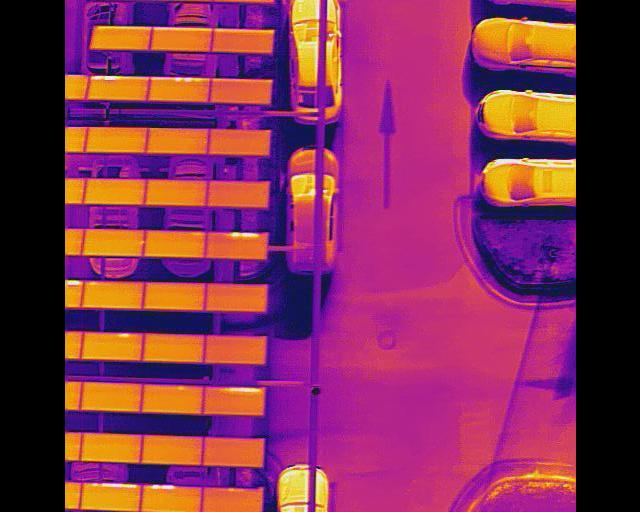Cell: (81, 334, 144, 362)
No-Anomaly: (204, 336, 266, 366), (142, 282, 205, 311), (203, 438, 263, 468), (140, 436, 202, 465), (79, 434, 141, 463), (204, 284, 266, 312), (142, 334, 204, 362), (141, 385, 203, 413), (80, 385, 141, 413), (81, 282, 144, 309), (142, 232, 207, 258), (207, 182, 269, 209), (207, 129, 268, 156), (144, 180, 207, 206), (81, 231, 144, 257), (148, 28, 215, 52), (82, 180, 146, 205), (146, 128, 207, 154), (86, 127, 147, 153), (210, 29, 273, 54), (209, 81, 272, 105), (202, 488, 261, 512), (90, 28, 152, 49)
Unclassified: (79, 483, 139, 511), (204, 233, 266, 260), (203, 388, 262, 416), (141, 485, 201, 512), (148, 78, 208, 103), (88, 77, 149, 101)
